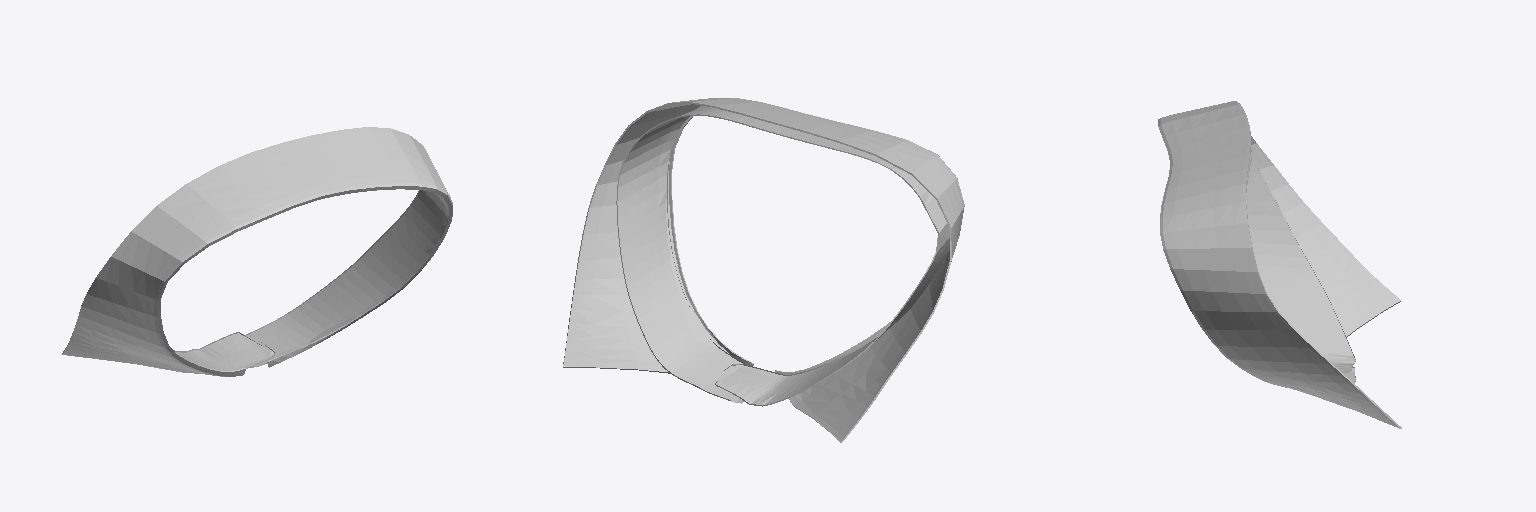
Rendered from due_wide.obj.
The picture shows the model from 3 angles: view 1: azimuth 30°, elevation 25°; view 2: azimuth 150°, elevation 25°; view 3: azimuth 270°, elevation 25°; orthographic projection.
Parts seen in each view (by area): view 1: 14_due_wide, inner_collar_out; view 2: 14_due_wide, inner_collar_out; view 3: 14_due_wide, inner_collar_out.
Boxes of the visible parts, x1,y1,x2,y2 form: 14_due_wide: [62, 127, 452, 376]; inner_collar_out: [174, 190, 447, 370]; 14_due_wide: [563, 98, 964, 442]; inner_collar_out: [616, 106, 949, 406]; 14_due_wide: [1158, 101, 1401, 428]; inner_collar_out: [1246, 150, 1355, 383].
Size of the model in its own units: 18.02 by 12.11 by 11.01.